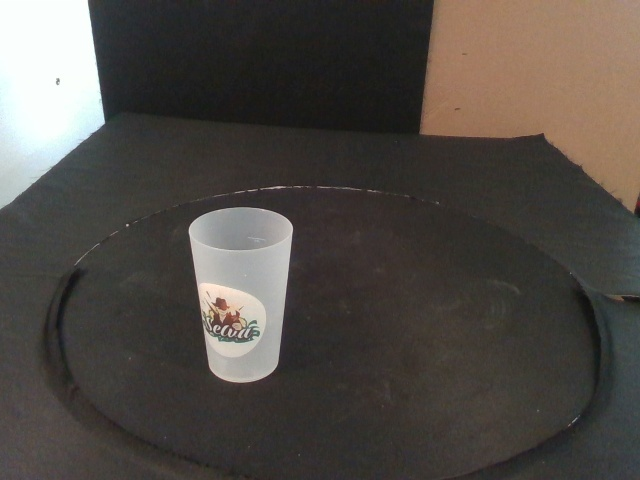glass: (187, 207, 294, 383)
